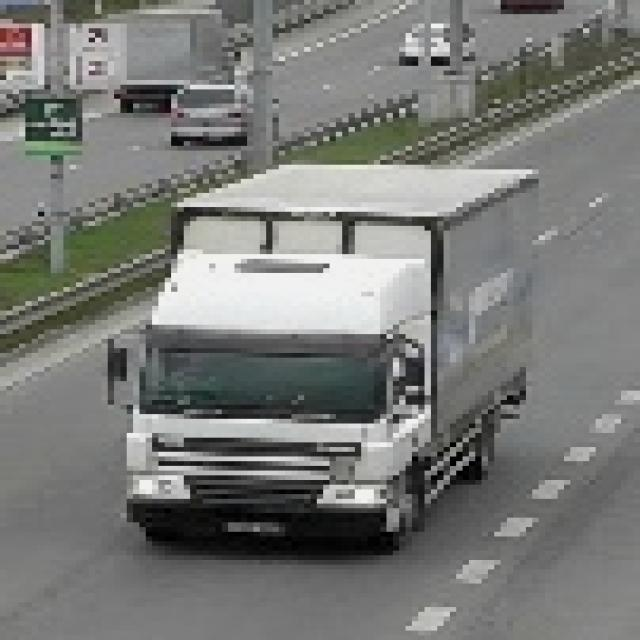truck: (103, 161, 534, 552)
